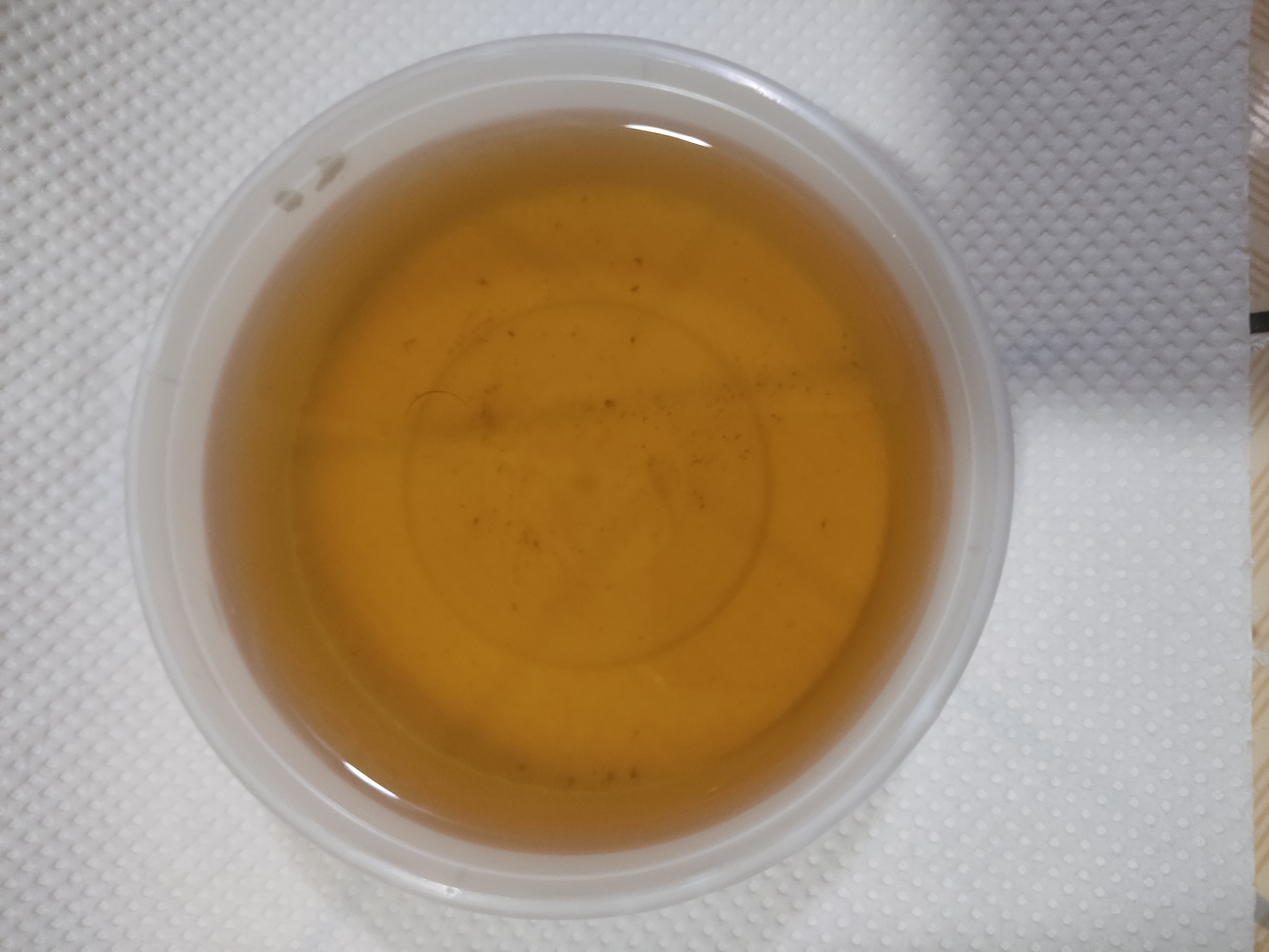reusable: (191, 109, 965, 874)
